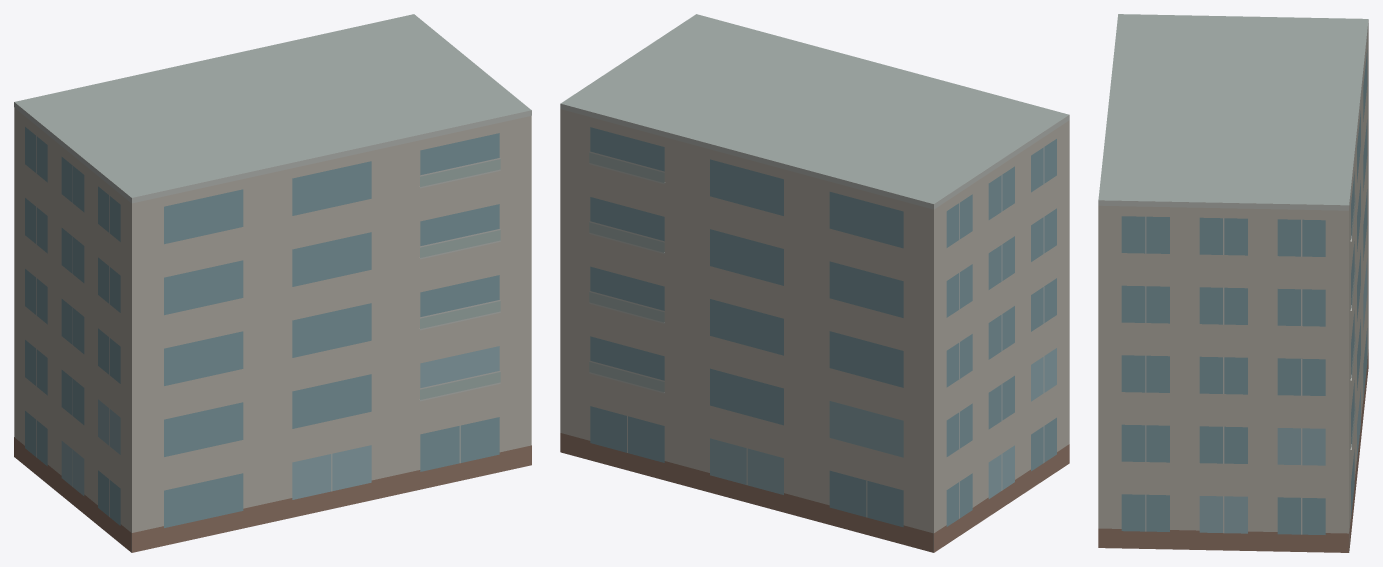
The model's file is survey-upis-32562058.glb.
3 views of the same model, side by side, from view 1: azimuth 30°, elevation 25°; view 2: azimuth 150°, elevation 25°; view 3: azimuth 270°, elevation 25° (orthographic). The views are drawn at different scales.
Parts seen in each view (by area): view 1: survey-upis-32562058.tmp; view 2: survey-upis-32562058.tmp; view 3: survey-upis-32562058.tmp.
Boxes of the visible parts, x1,y1,x2,y2 form: survey-upis-32562058.tmp: (14, 14, 531, 552); survey-upis-32562058.tmp: (560, 14, 1069, 552); survey-upis-32562058.tmp: (1098, 14, 1368, 552).
Size of the model in its own units: 18.54 by 15.7 by 11.07.
